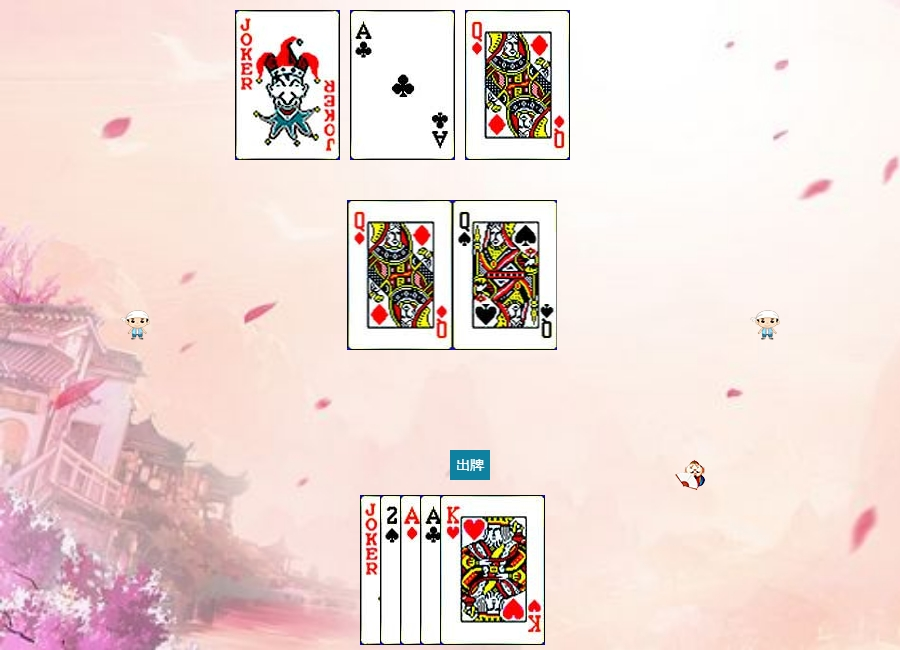12~1: (465, 10, 570, 160), (348, 200, 453, 350)
12~4: (453, 200, 558, 350)
13~3: (440, 495, 545, 645)
14~1: (400, 495, 505, 645)
14~2: (350, 10, 455, 160), (420, 495, 525, 645)
15~4: (380, 495, 485, 645)
18~4: (235, 10, 340, 160), (360, 495, 465, 645)
